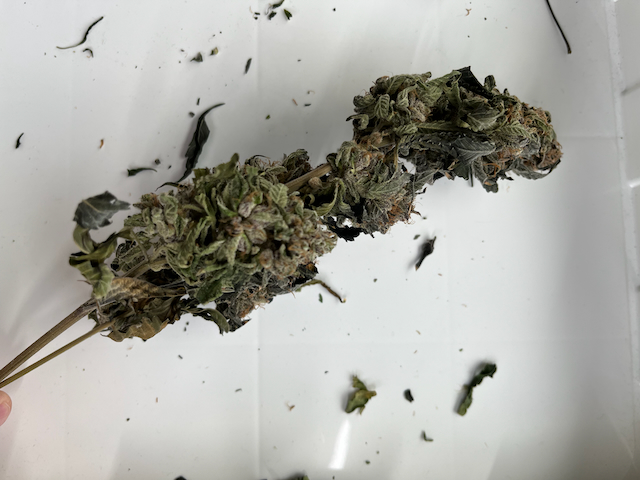Bud: (125, 159, 335, 327), (456, 103, 560, 181), (337, 154, 419, 230), (353, 71, 435, 146)
